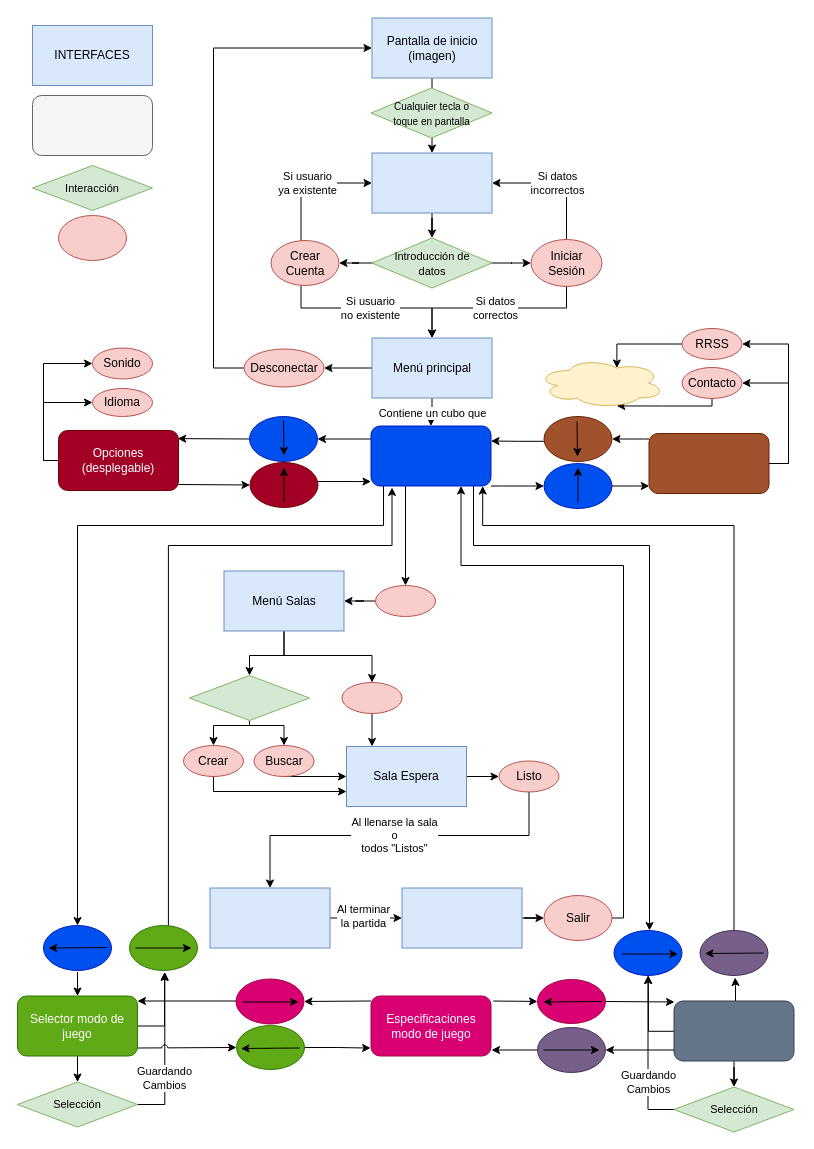
Image size: 814x1149. Some labels were removed from this diagram. Here are the shapes that lost their labels. From the top down, the centre of each, then its label:
At (92,125): "CARAS DEL CUBO, CADA UNA DE UN COLOR".
At (431,182): "Inicio de Sesión".
At (92,237): "Botón".
At (600,382): "Página Web".
At (430,455): "Cara Principal".
At (708,463): "Contacto + Créditos".
At (405,600): "Jugar".
At (249,697): "Datos Sala".
At (371,698): "Unirse".
At (269,917): "Pantalla de Juego".
At (461,917): "Fin de partida".
At (733,1030): "Selector de Personaje".
